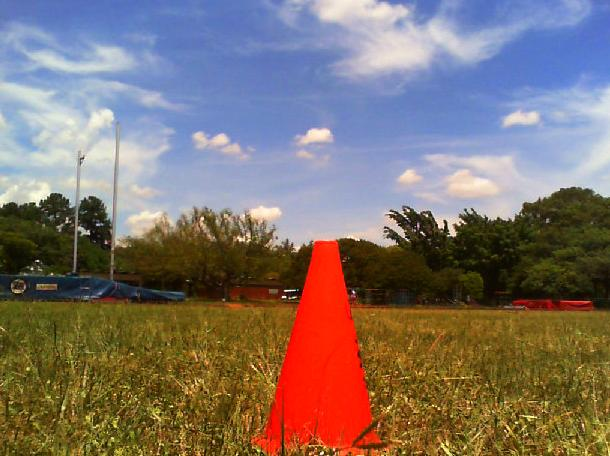0 cone: (252, 240, 383, 456)
